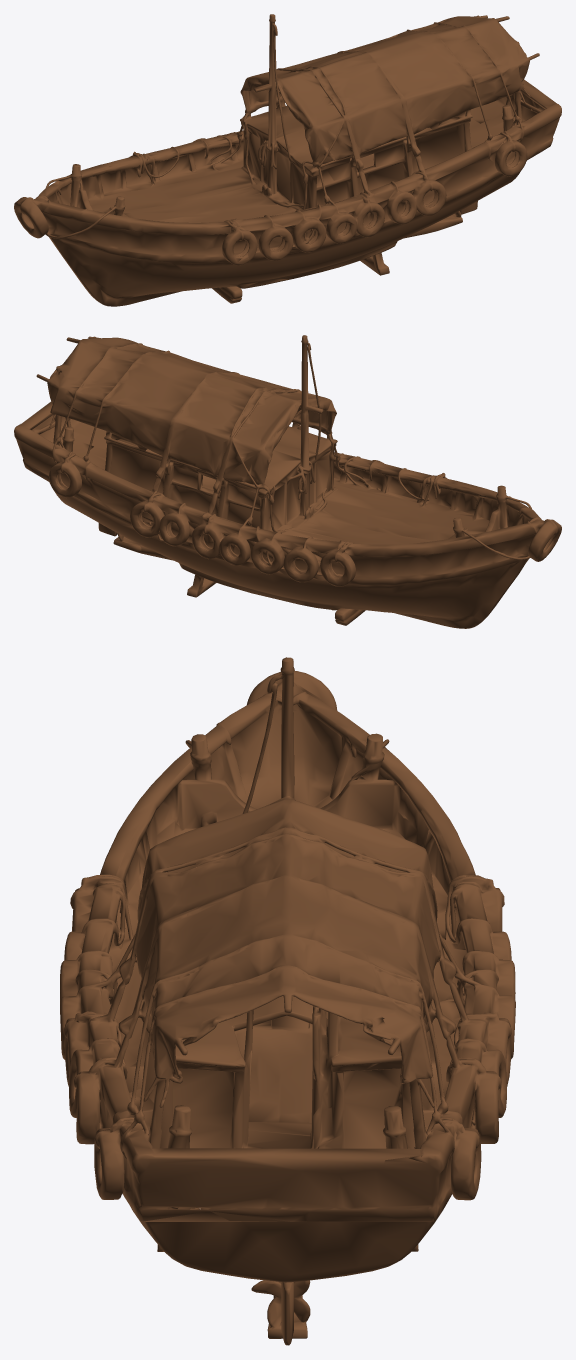
File: gen-work-boat-tarp-1.glb
3 views of the same model, one above another, from view 1: azimuth 30°, elevation 25°; view 2: azimuth 150°, elevation 25°; view 3: azimuth 270°, elevation 25° (orthographic). The views are drawn at different scales.
Visible parts, largest first — view 1: gen-work-boat-tarp-1_part1; view 2: gen-work-boat-tarp-1_part1; view 3: gen-work-boat-tarp-1_part1.
Boxes of the visible parts, x1,y1,x2,y2 form: gen-work-boat-tarp-1_part1: (14,14,561,306); gen-work-boat-tarp-1_part1: (14,335,561,628); gen-work-boat-tarp-1_part1: (60,657,515,1345).
Size of the model in its own units: 11006 by 5329 by 4309.
